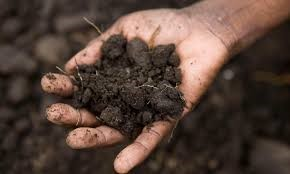dirt: (74, 35, 183, 132), (0, 0, 45, 171), (233, 33, 288, 171), (185, 92, 232, 170), (47, 132, 113, 171), (47, 2, 83, 52)
